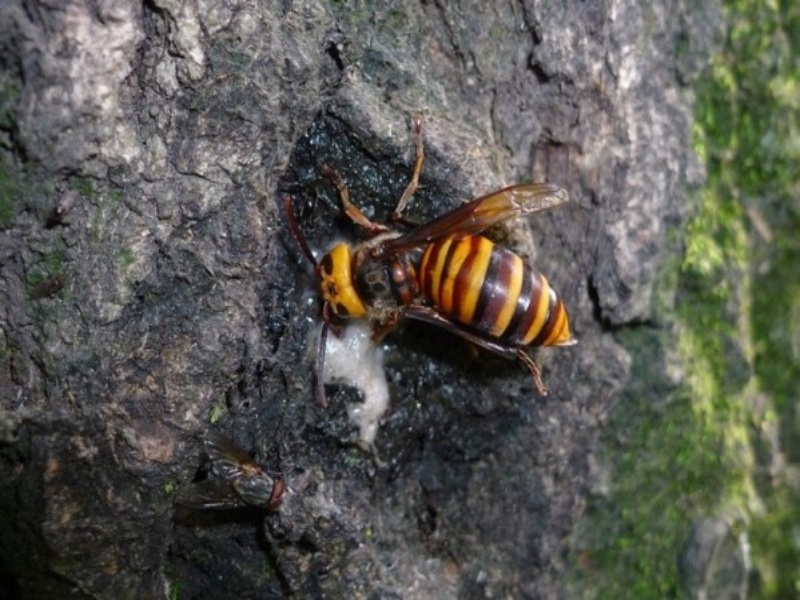asian_giant_hornet: (318, 198, 573, 351)
